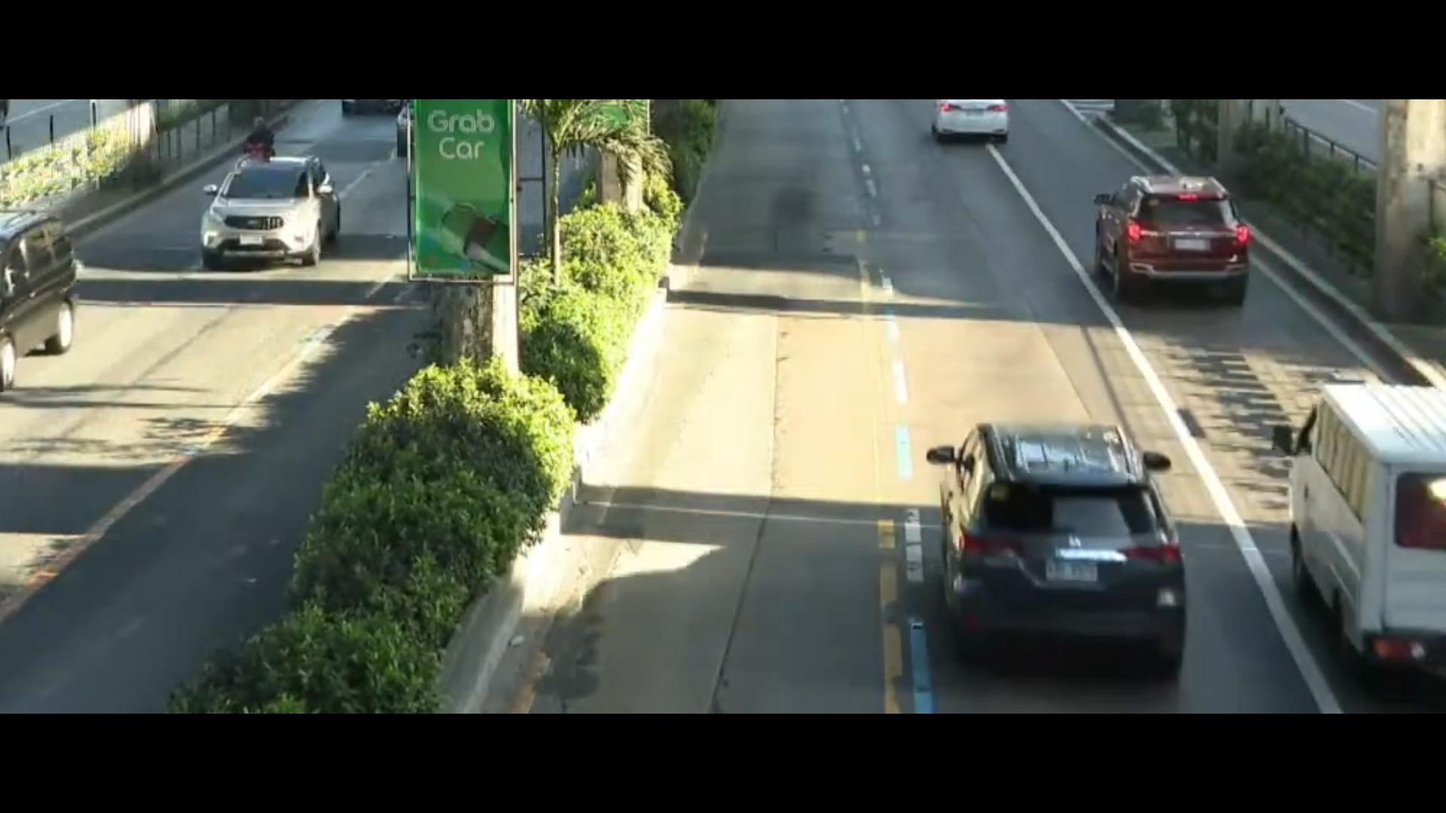Motorcycle: (222, 113, 279, 157)
Multicab: (1237, 375, 1446, 703)
SUV: (915, 392, 1200, 700), (1075, 154, 1260, 336), (185, 151, 359, 279), (0, 209, 83, 365)
